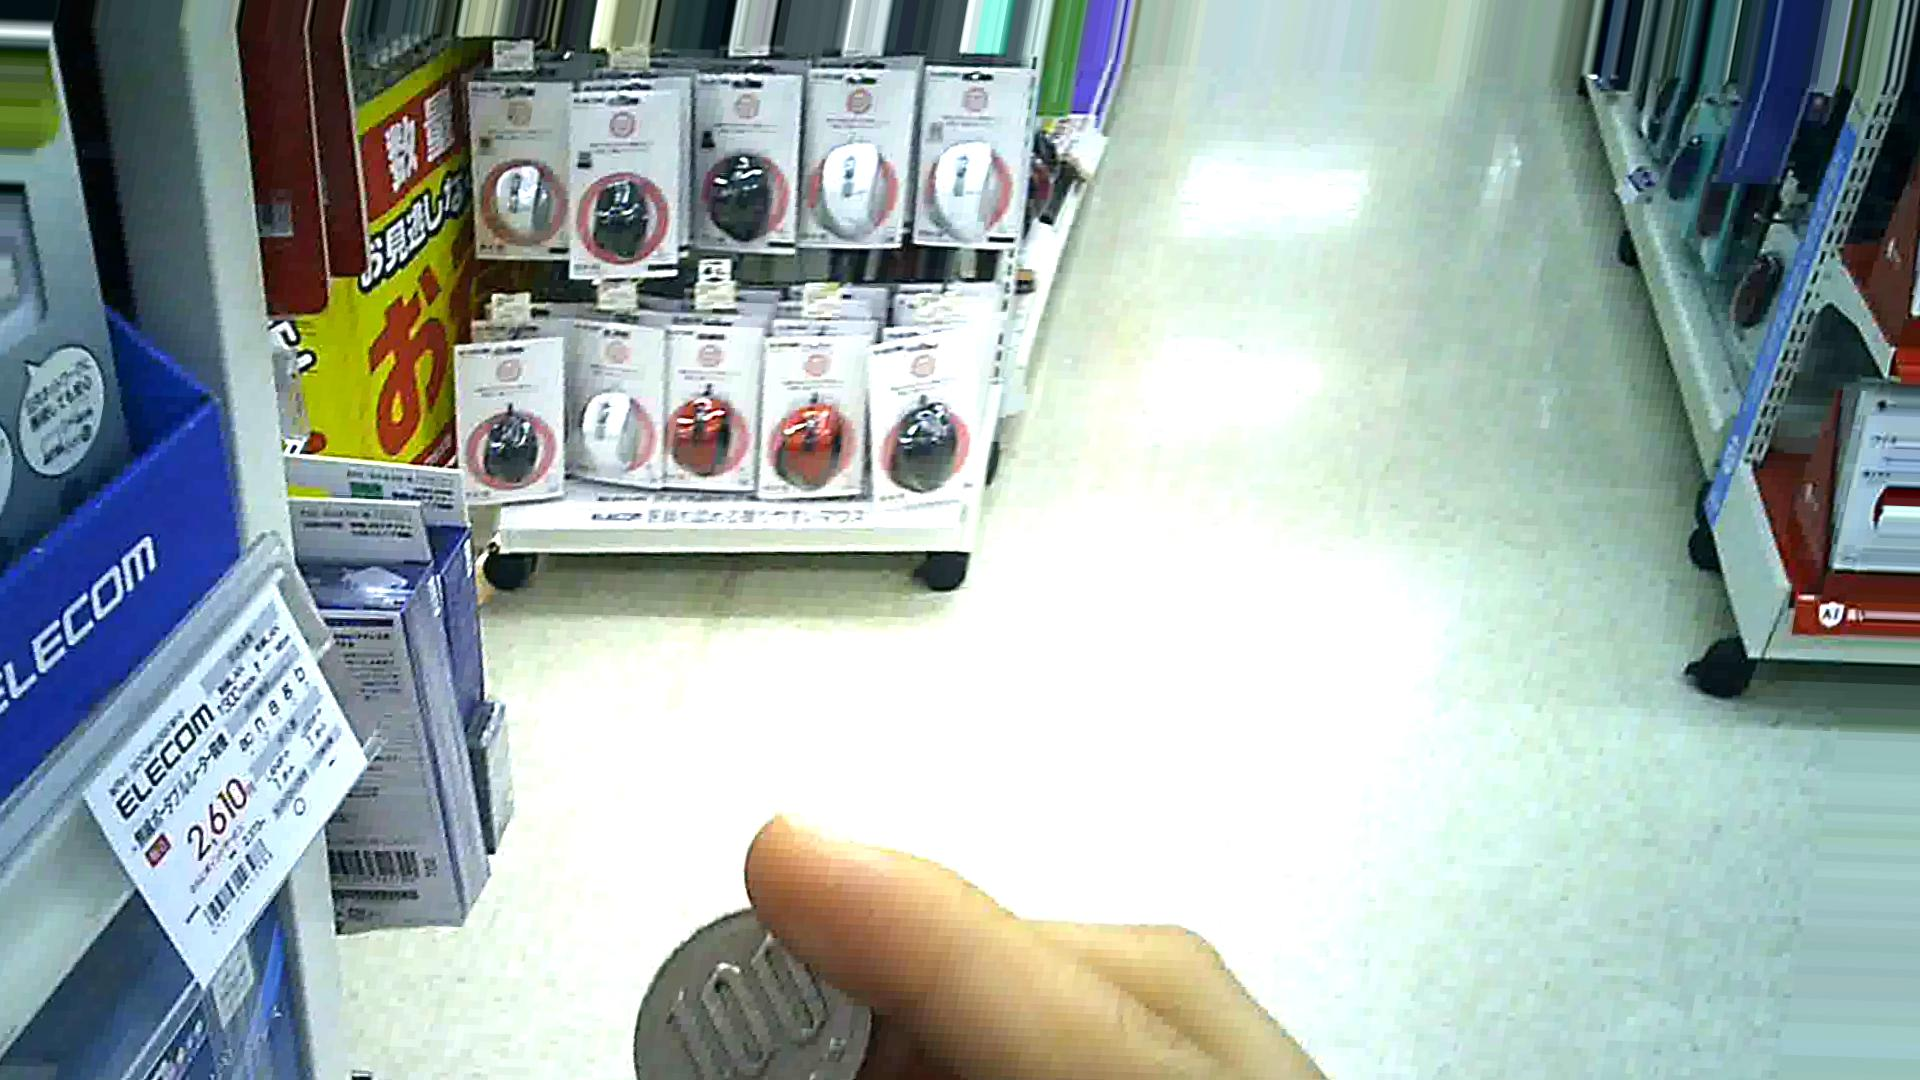100 Yen: (618, 905, 878, 1075)
